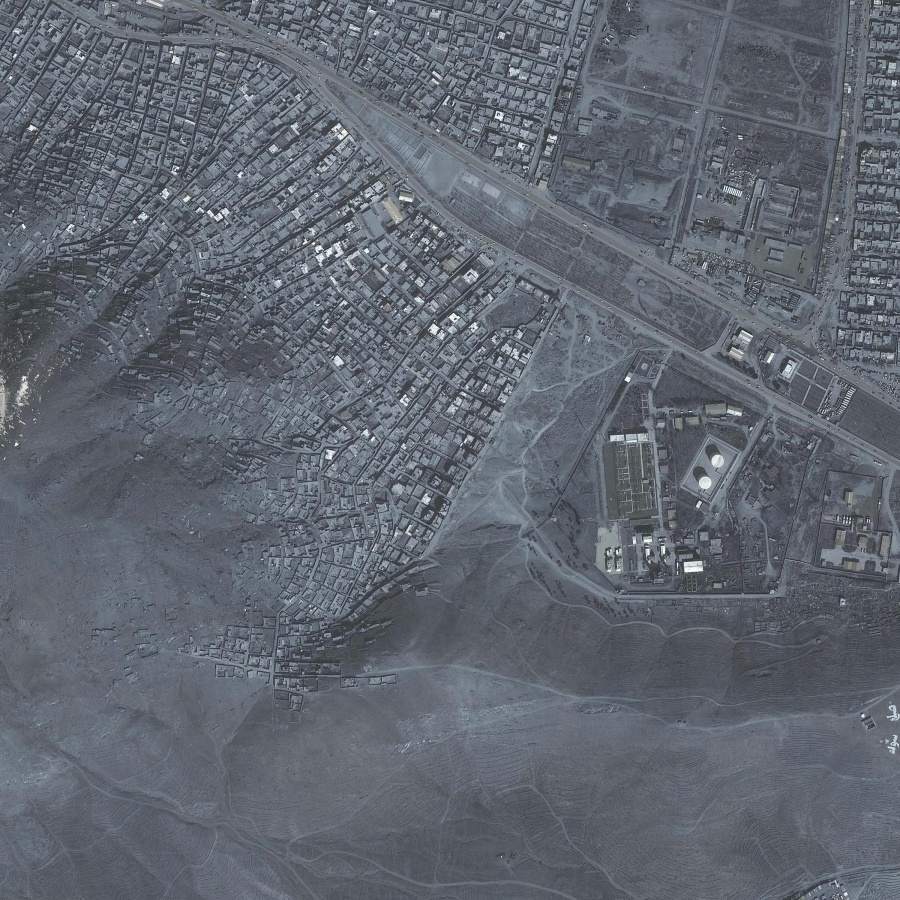PowerPlant: (605, 396, 748, 587)
